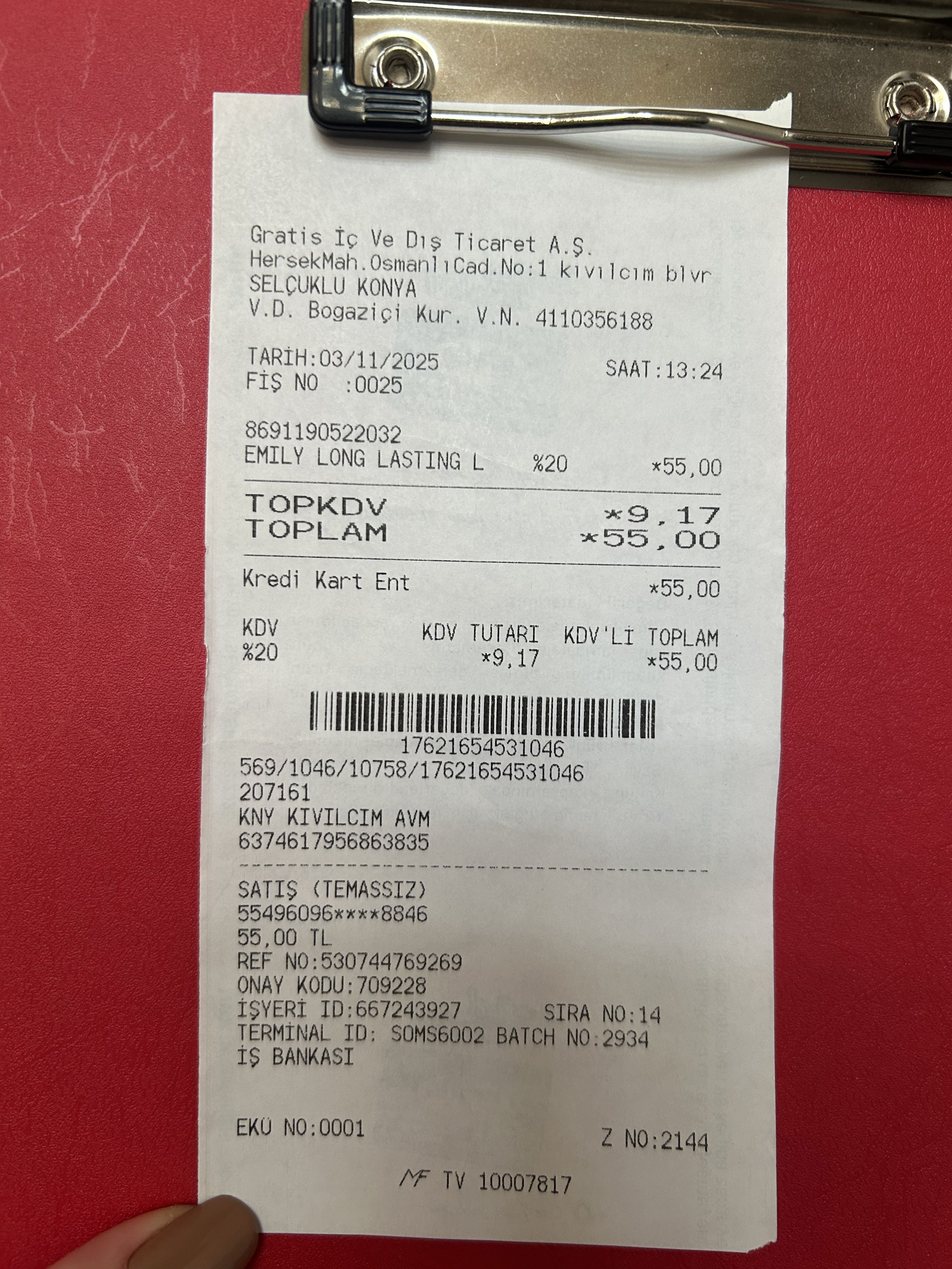date: (316, 341, 446, 372)
price: (596, 523, 728, 561)
workplace: (230, 214, 736, 301)
